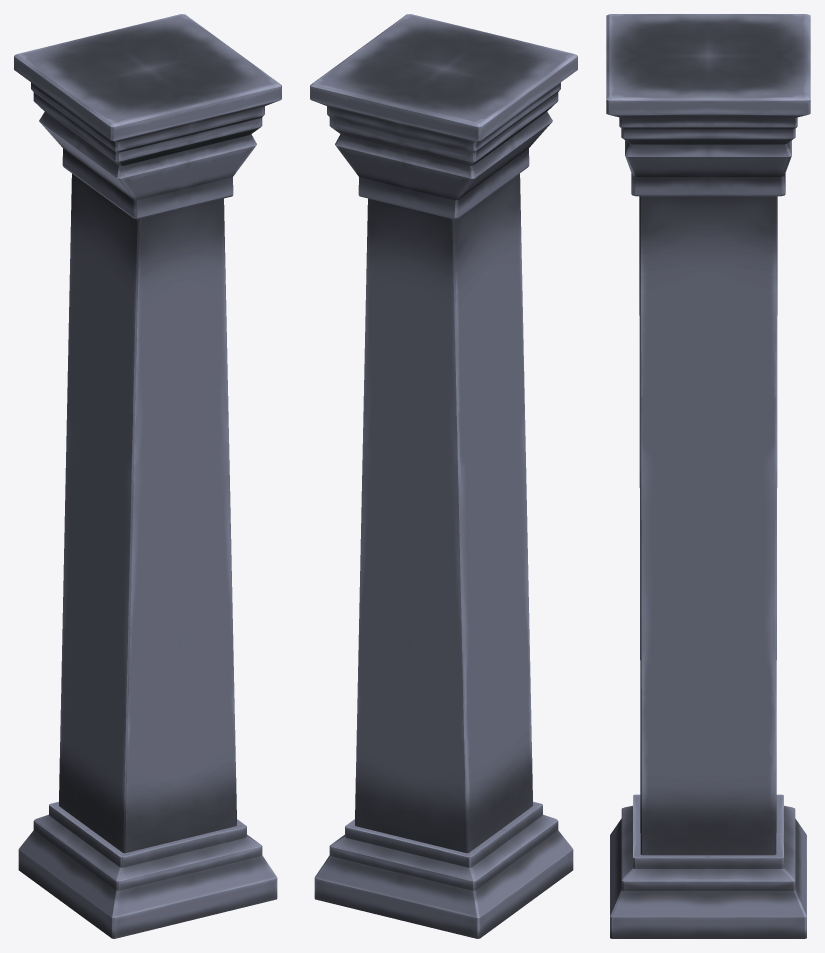
Rendered from Column.fbx.
3 views of the same model, side by side, from view 1: azimuth 30°, elevation 25°; view 2: azimuth 150°, elevation 25°; view 3: azimuth 270°, elevation 25° (orthographic). The views are drawn at different scales.
Visible parts, largest first — view 1: Column; view 2: Column; view 3: Column.
Part boxes in pixels (box(x1,y1,x2,y2)): Column: box(14, 14, 281, 938); Column: box(310, 14, 577, 938); Column: box(606, 14, 810, 938).
Bounding box in the file's own units: 220 × 1003 × 220.
